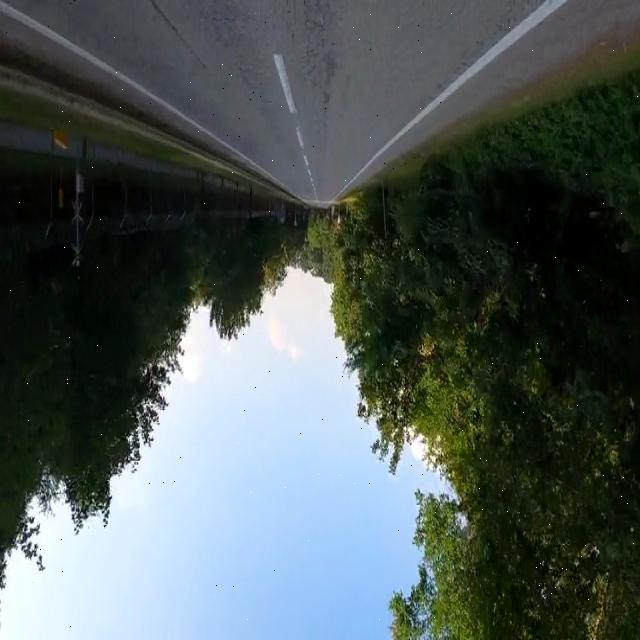lane: (0, 1, 275, 177), (335, 1, 566, 199), (274, 54, 296, 113), (296, 126, 304, 149)
road: (0, 2, 640, 204)
